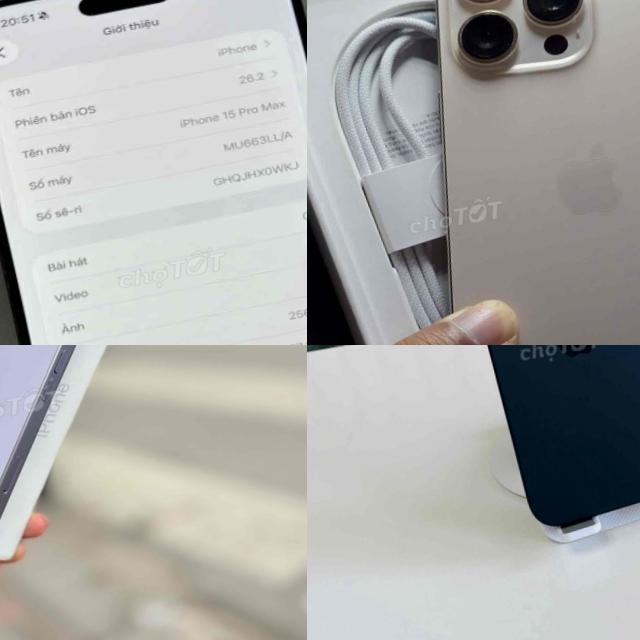gen_15: (0, 0, 307, 345), (431, 345, 640, 573)
gen_16: (371, 0, 640, 345)
gen_17: (0, 345, 148, 572)
